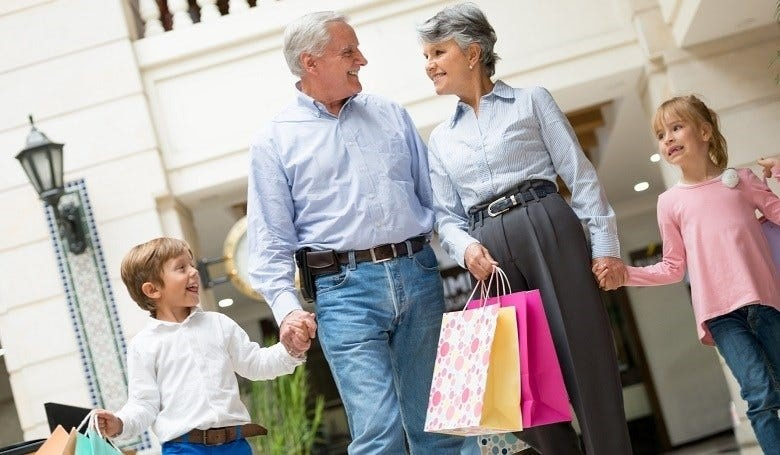face_no_mask: (285, 9, 369, 101), (418, 2, 498, 94), (120, 236, 200, 311), (653, 94, 713, 165)
